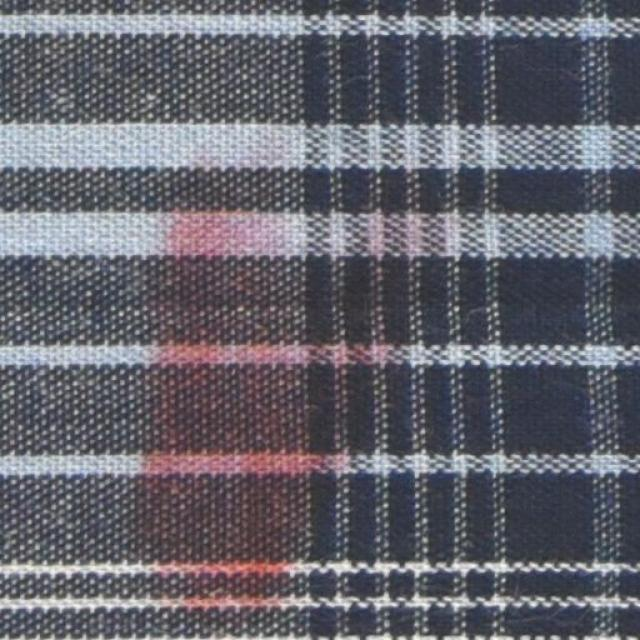Stain: (137, 185, 404, 632)
